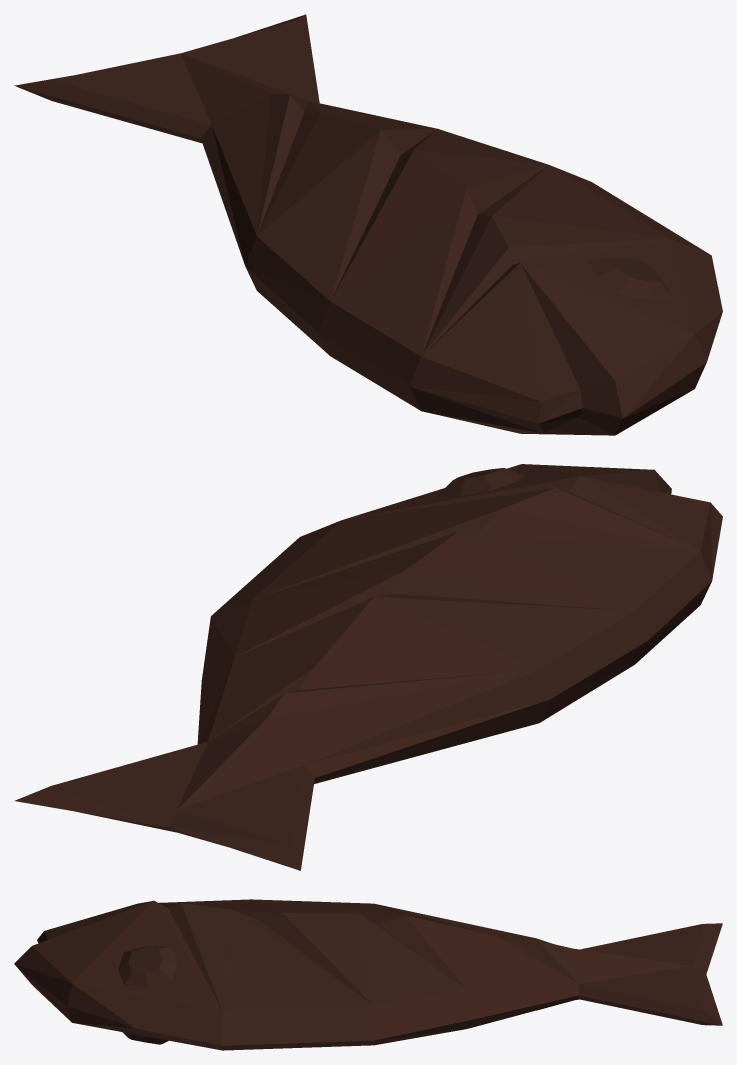
The model's file is Fish_01_Brun.fbx.
3 renders of one model, top to bottom at view 1: azimuth 30°, elevation 25°; view 2: azimuth 150°, elevation 25°; view 3: azimuth 270°, elevation 25°, orthographic. The views are drawn at different scales.
Visible parts, largest first — view 1: Fish_01_Brun; view 2: Fish_01_Brun; view 3: Fish_01_Brun.
Boxes of the visible parts, <box> form: Fish_01_Brun: <box>14,14,722,435</box>; Fish_01_Brun: <box>14,464,722,870</box>; Fish_01_Brun: <box>14,899,722,1050</box>.
Bounding box in the file's own units: 37.84 × 16.52 × 86.42.
